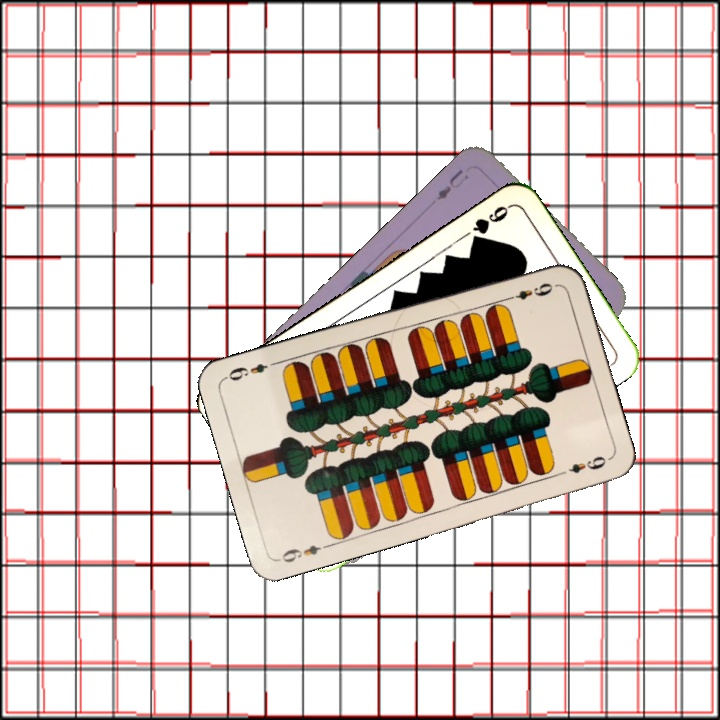E9: (275, 540, 333, 566), (501, 278, 556, 304)
EU: (432, 165, 468, 203)
G9: (467, 201, 513, 247)
